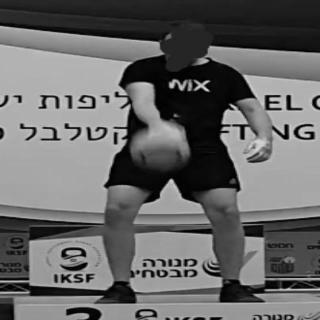kettlebell: (131, 119, 197, 176)
